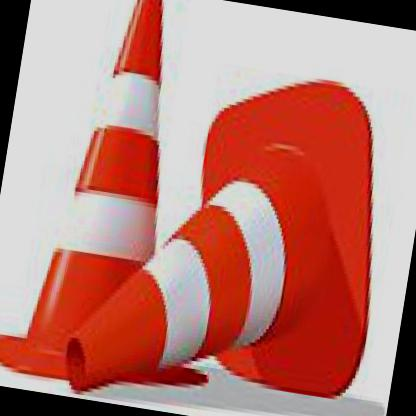cone: (67, 47, 402, 414), (0, 0, 241, 387)
